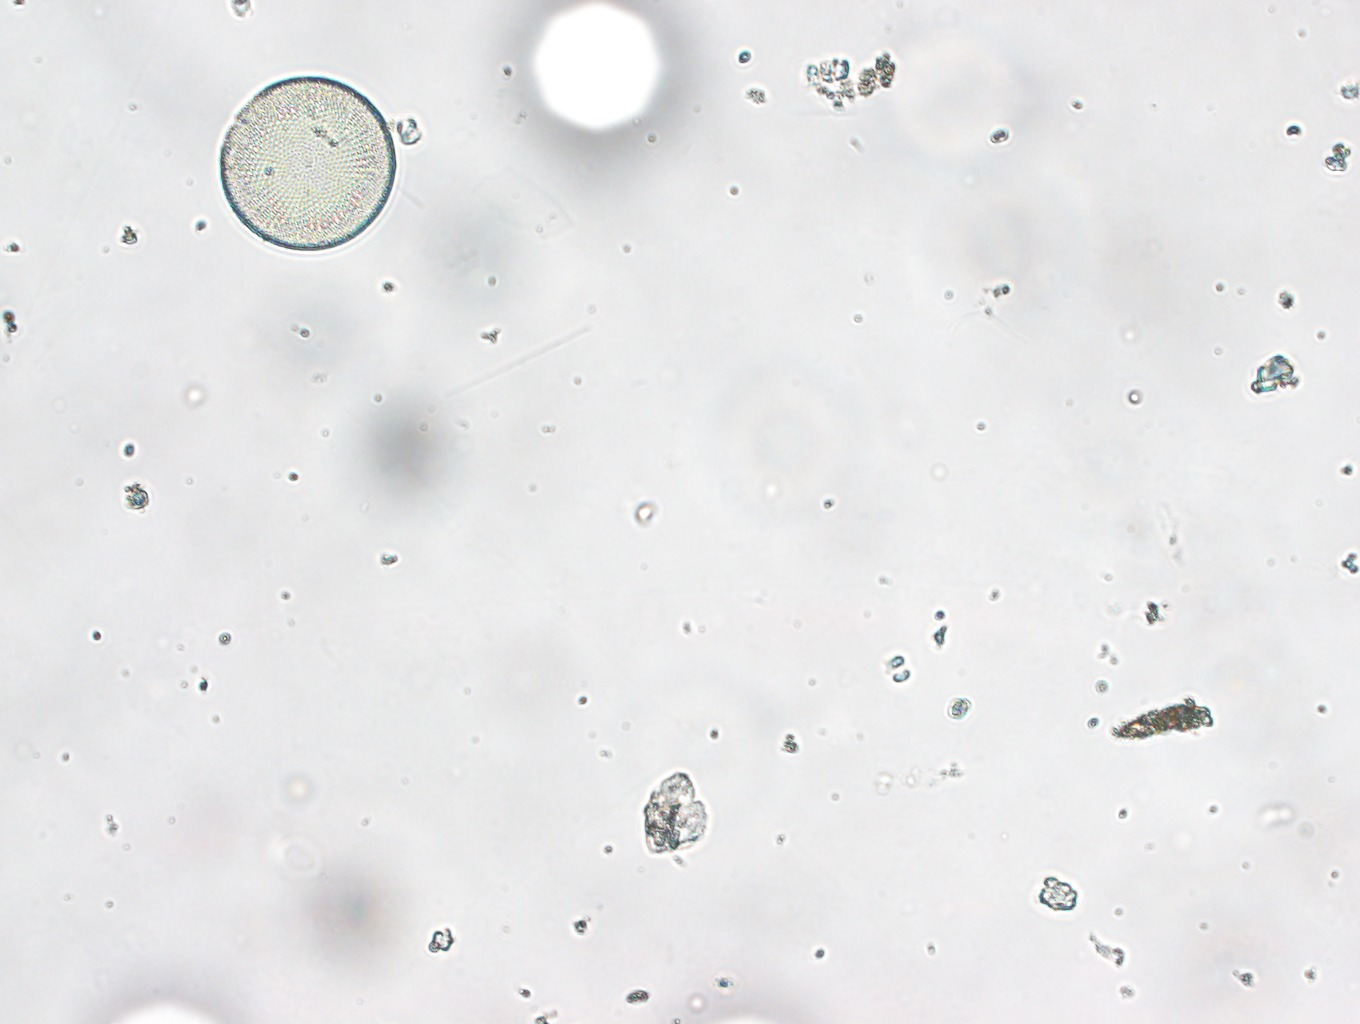coscinodiscus: (213, 68, 401, 257)
